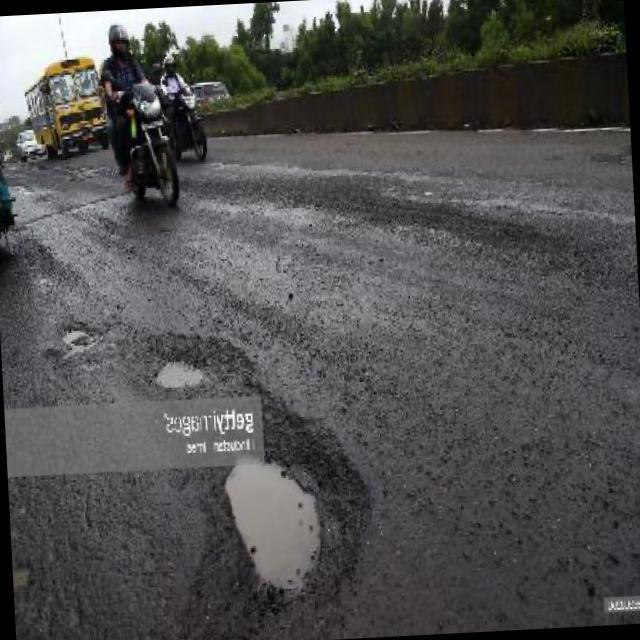Pothole: (225, 397, 356, 590), (157, 362, 204, 388)
